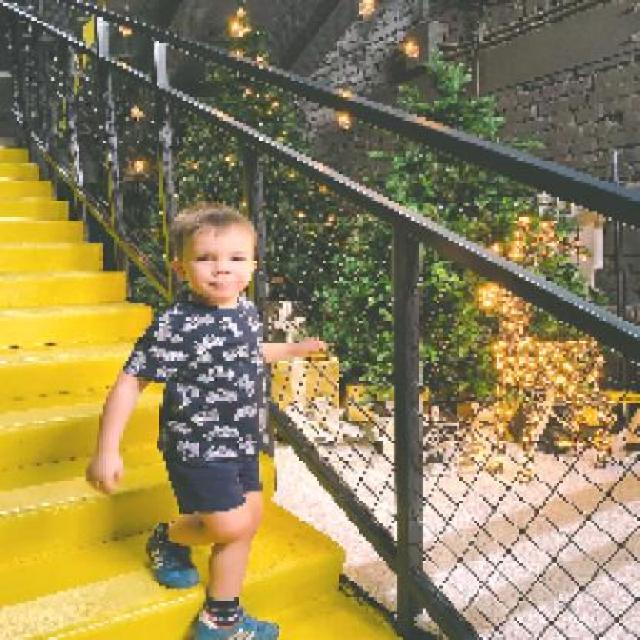child: (82, 202, 332, 638)
